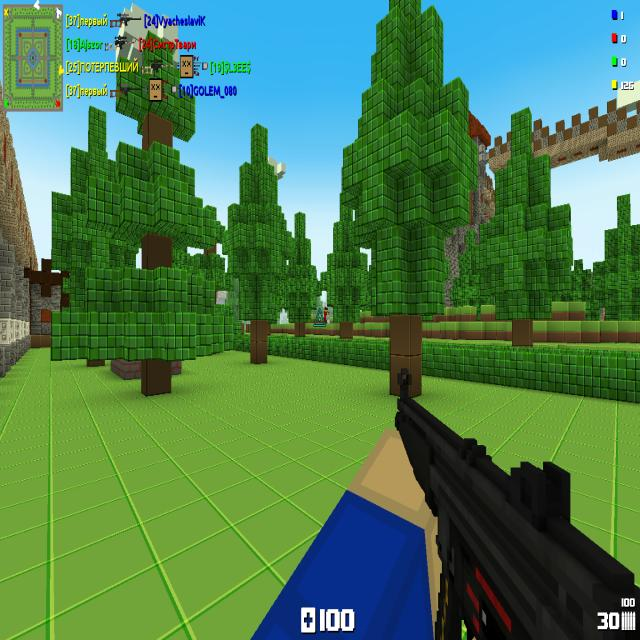enemy: (323, 307, 330, 323)
